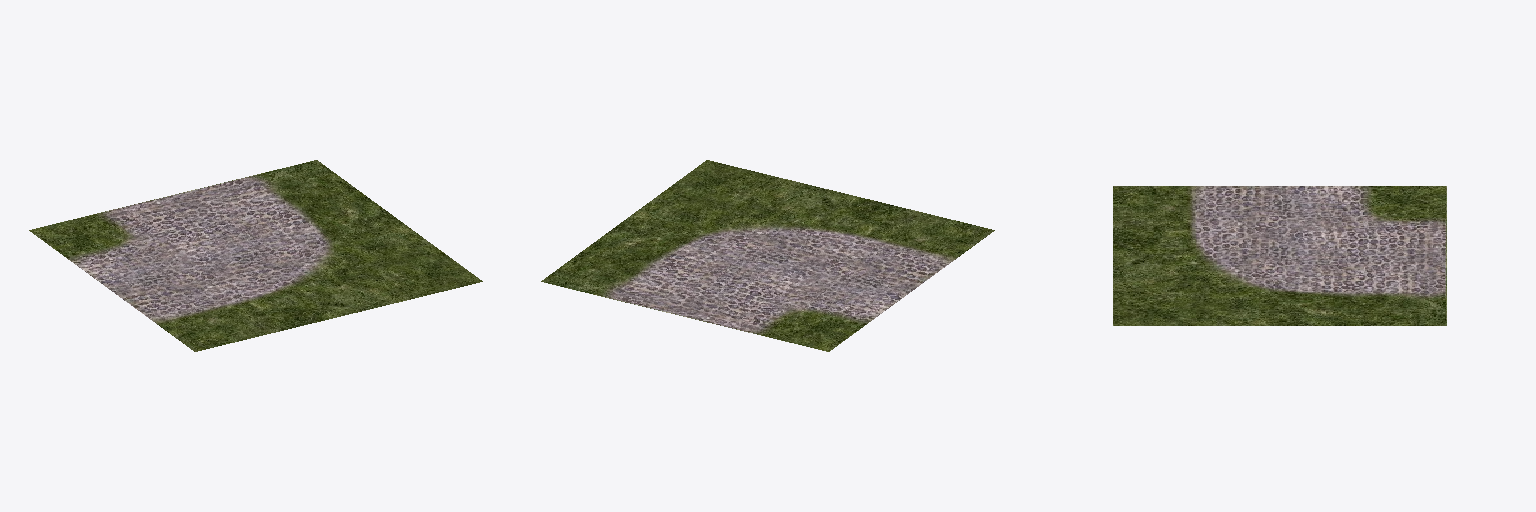
3 views of the same model, side by side, from view 1: azimuth 30°, elevation 25°; view 2: azimuth 150°, elevation 25°; view 3: azimuth 270°, elevation 25° (orthographic).
Visible parts, largest first — view 1: Plane104; view 2: Plane104; view 3: Plane104.
Boxes of the visible parts, <box> form: Plane104: <box>29,160,482,351</box>; Plane104: <box>541,160,994,351</box>; Plane104: <box>1113,186,1446,325</box>.
Size of the model in its own units: 76 by 0 by 76.
Materials: 1 (1 with a texture image).